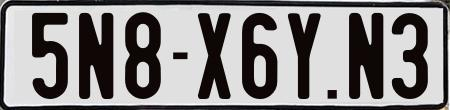3: (392, 10, 432, 96)
5: (30, 11, 72, 100)
6: (240, 11, 278, 100)
8: (124, 11, 165, 99)
N: (346, 10, 383, 102), (79, 11, 113, 100)
X: (195, 11, 228, 100)
Y: (287, 12, 325, 102)
